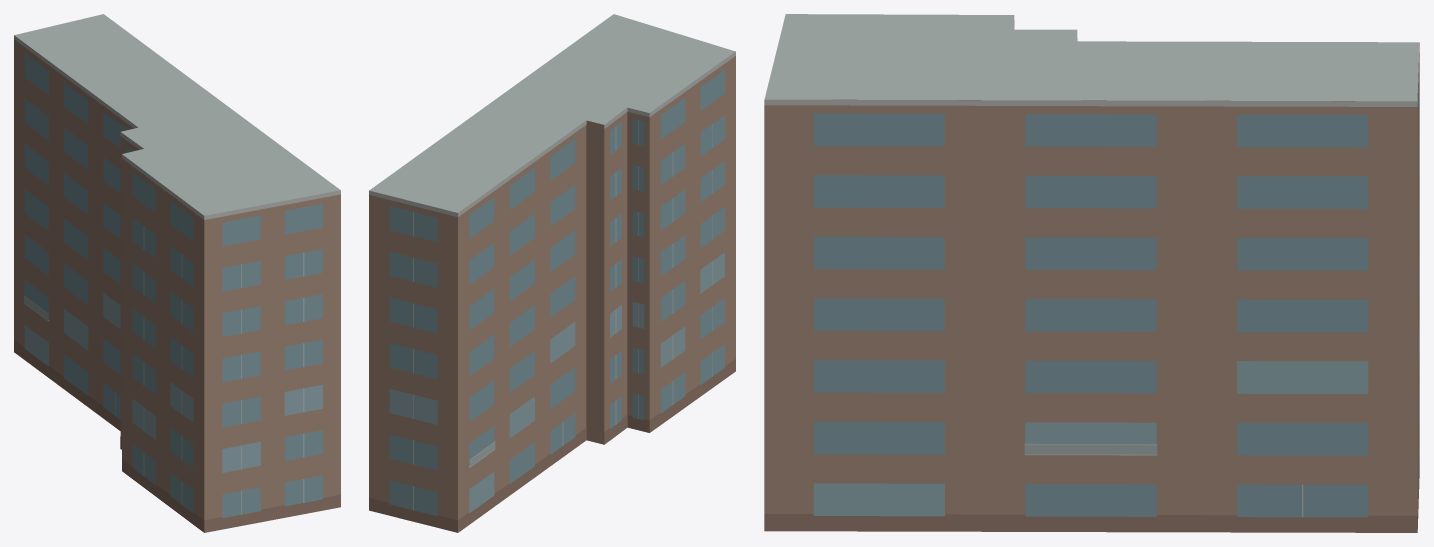
File: survey-upis-32900043.glb
3 renders of one model, left to right at view 1: azimuth 30°, elevation 25°; view 2: azimuth 150°, elevation 25°; view 3: azimuth 270°, elevation 25°, orthographic. The views are drawn at different scales.
Parts seen in each view (by area): view 1: survey-upis-32900043.tmp; view 2: survey-upis-32900043.tmp; view 3: survey-upis-32900043.tmp.
Boxes of the visible parts, <box> form: survey-upis-32900043.tmp: <box>14,14,340,532</box>; survey-upis-32900043.tmp: <box>369,14,735,532</box>; survey-upis-32900043.tmp: <box>764,14,1419,532</box>.
Bounding box in the file's own units: 8 × 18.43 × 25.36.
